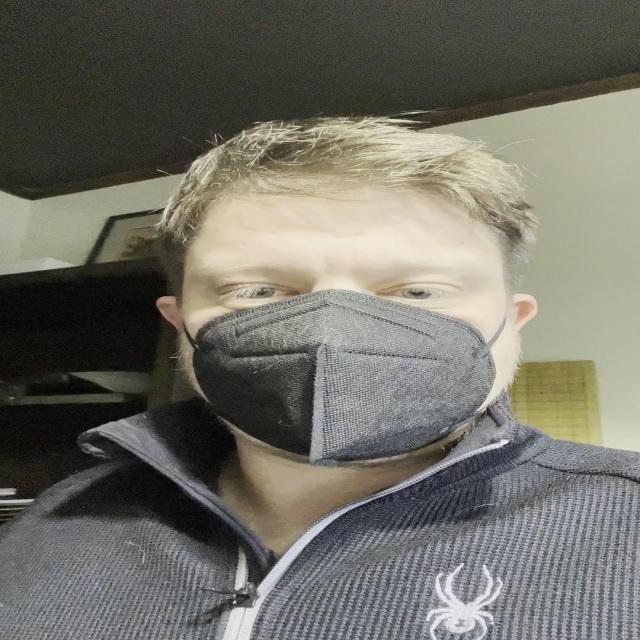no-helmet: (177, 173, 521, 465)
